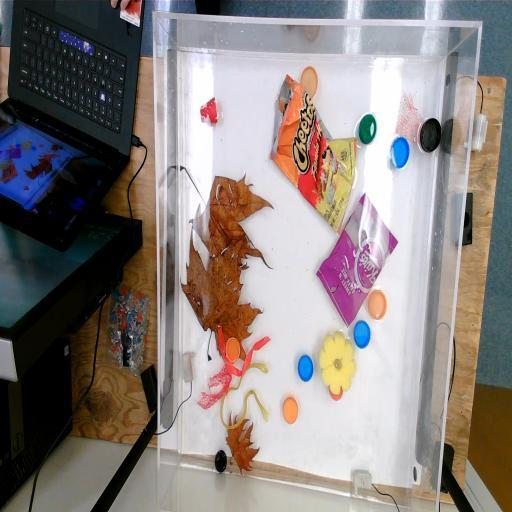Bottle Cap: (419, 118, 442, 154), (390, 134, 410, 172), (368, 287, 388, 321), (300, 65, 319, 99), (359, 112, 377, 146), (353, 318, 372, 350), (282, 396, 300, 426), (298, 354, 314, 382), (328, 379, 344, 403), (226, 336, 240, 362), (214, 448, 228, 474)
Cone Cap: (200, 97, 218, 125)
Leaf: (180, 226, 264, 363), (178, 162, 274, 272), (225, 410, 261, 476)
Netting: (396, 89, 427, 149), (196, 362, 232, 412)
Plastic Bag: (269, 72, 358, 238), (314, 191, 400, 328)
Plastic Strand: (220, 360, 268, 432), (216, 322, 272, 379)
Sponge: (318, 331, 357, 396)
